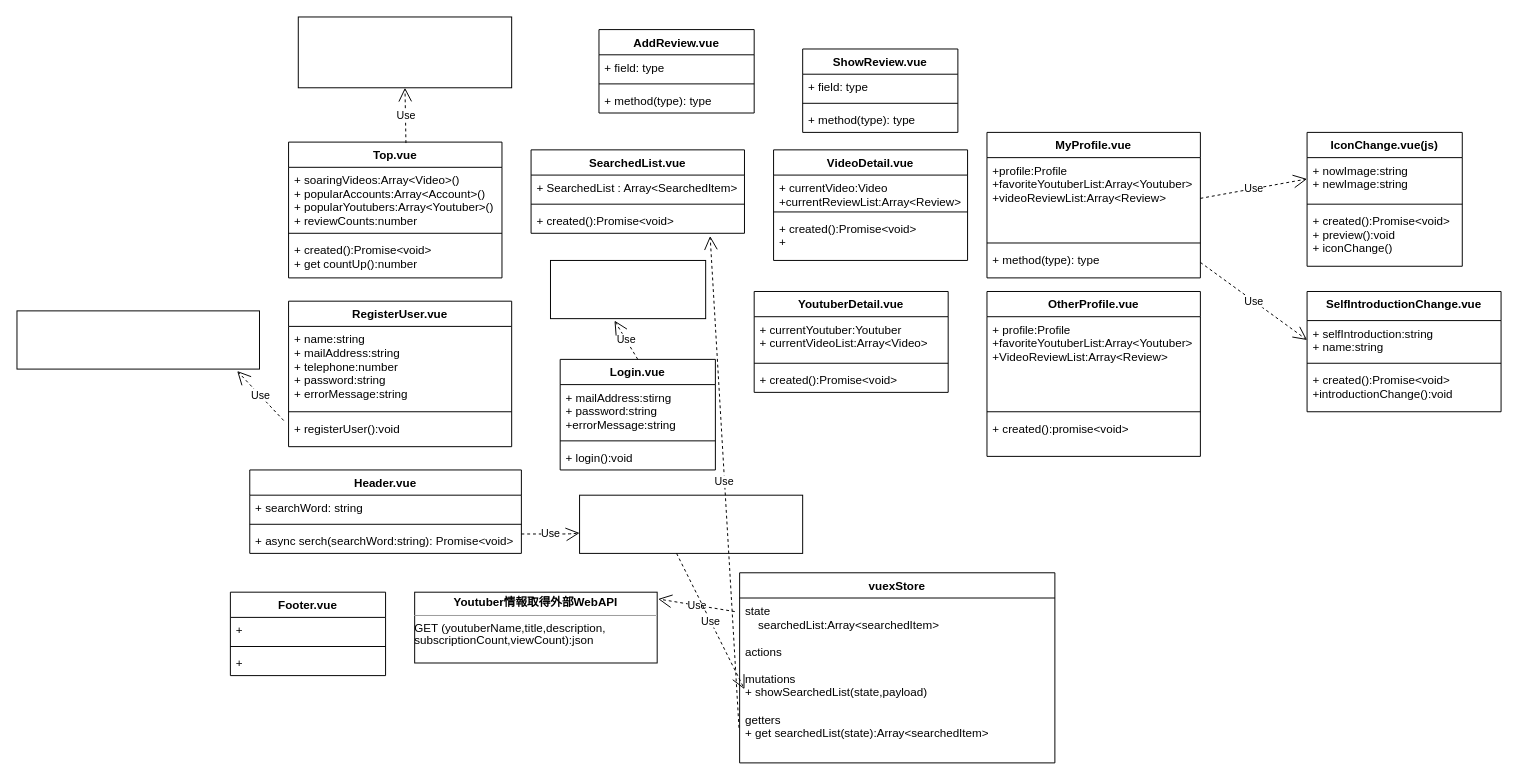
The diagram is 1518 pixels wide and 783 high, and some of its shapes have lost their labels. The shapes that lost their labels are listed below. From the top down, each one's centre as x and y in pixels, then its label:
At point 404,52: "急上昇動画取得外部WebAPI GET ( ):json".
At point 628,289: "ログイン実行外部WebAPI POST(email,password ):json".
At point 137,339: "ユーザ登録外部WebAPI POST (name,email,password ,telephone):json".
At point 691,523: "検索情報取得外部WebAPI GET(SearchWord):json".
